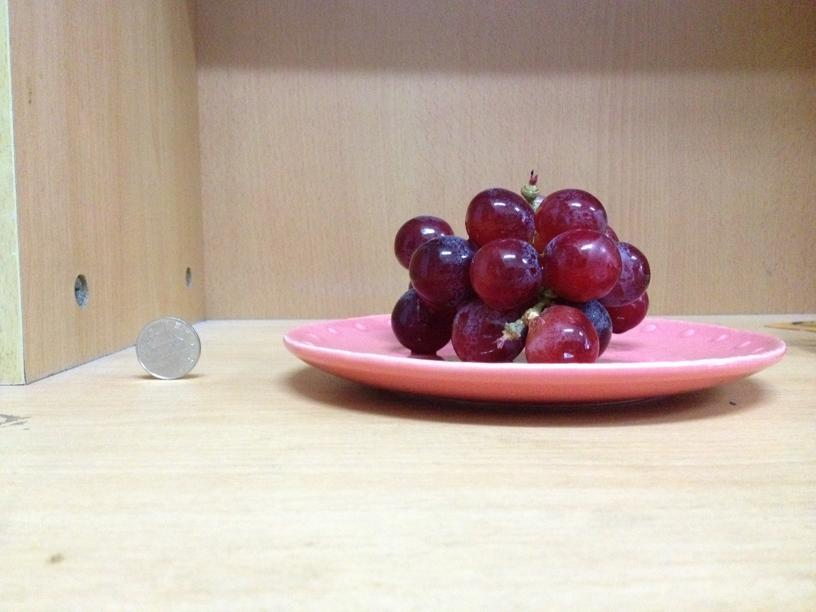coin: (133, 315, 200, 378)
grape: (387, 183, 651, 363)
